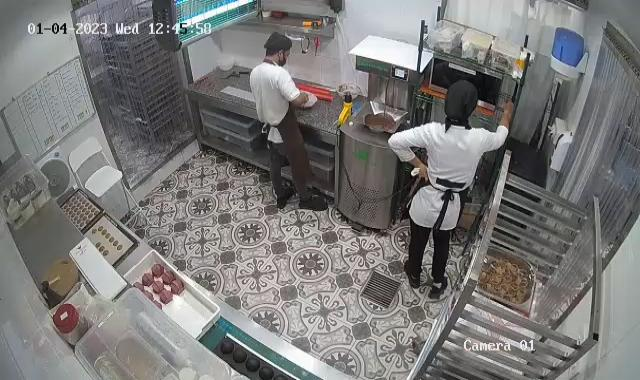no_hairnet: (446, 80, 480, 124), (264, 31, 294, 63)
